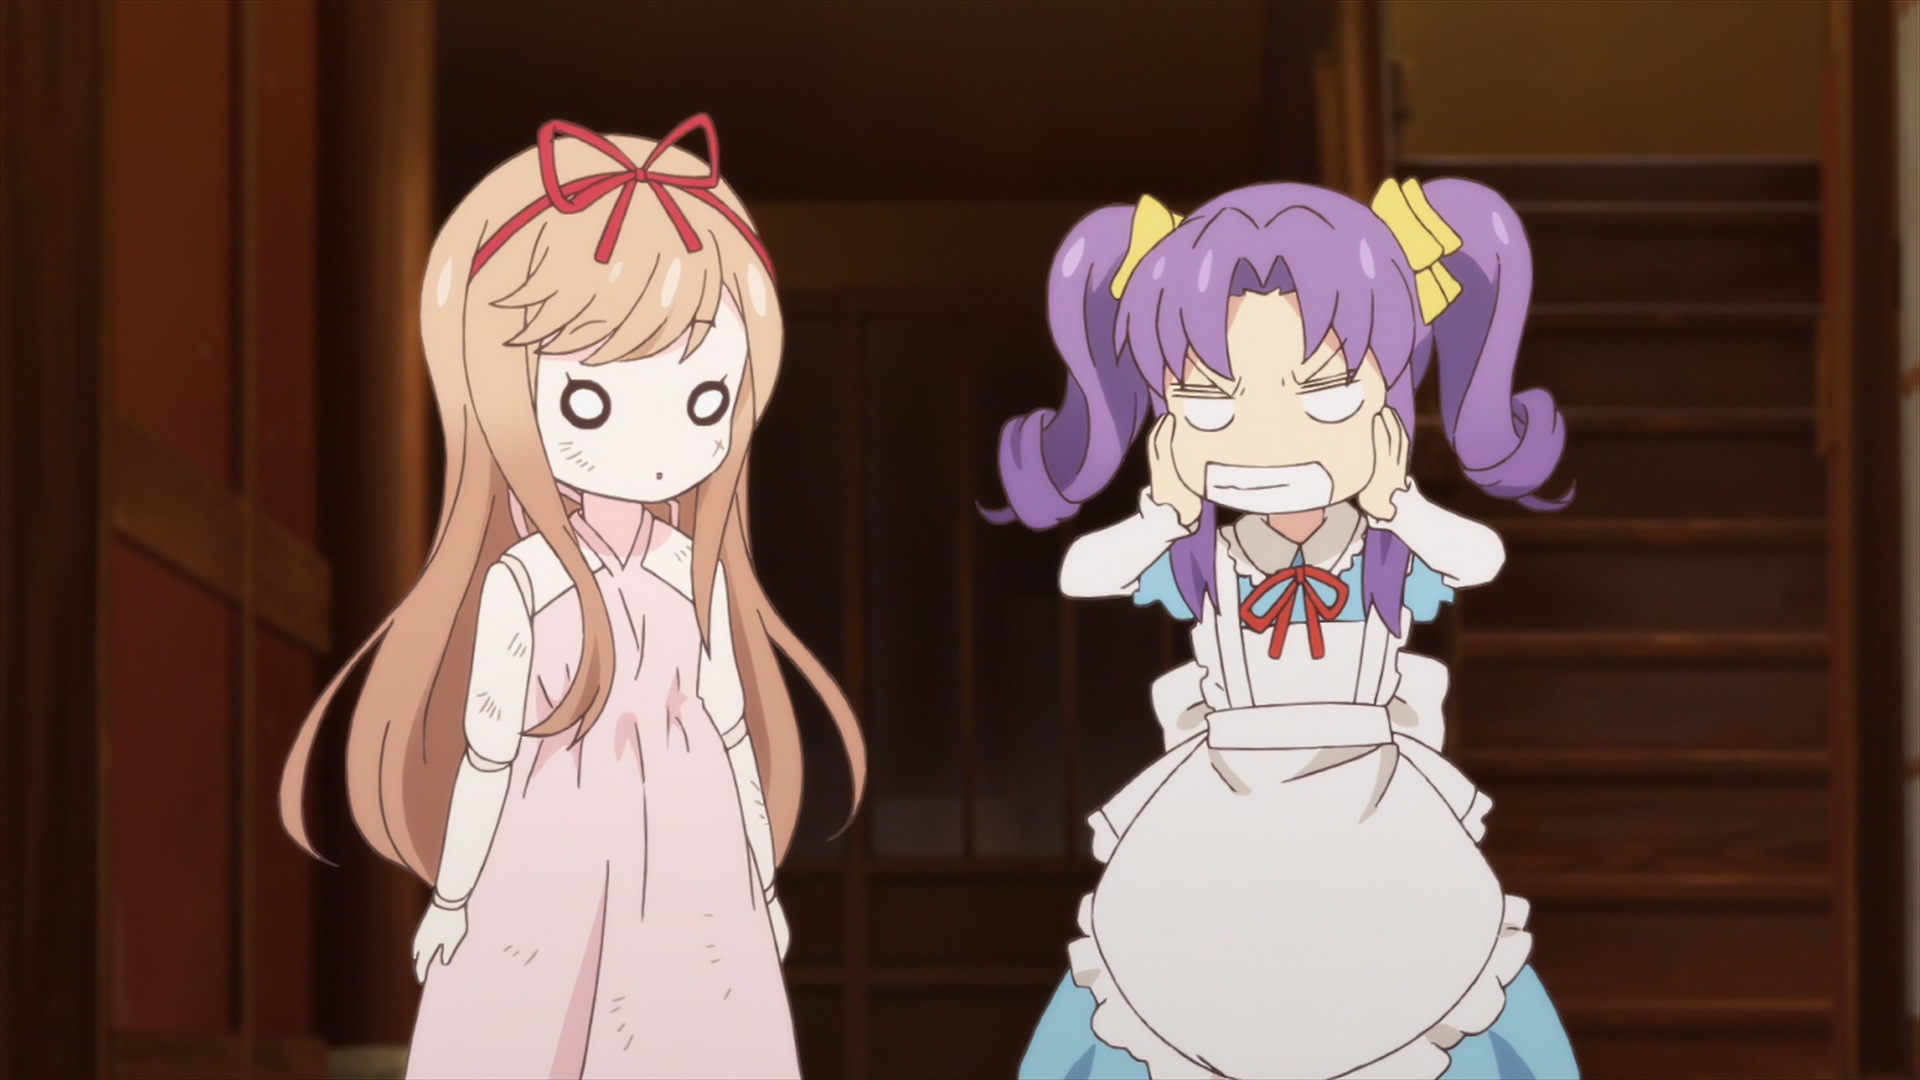其他: (281, 113, 866, 1080)
阿菊: (978, 174, 1581, 1080)
